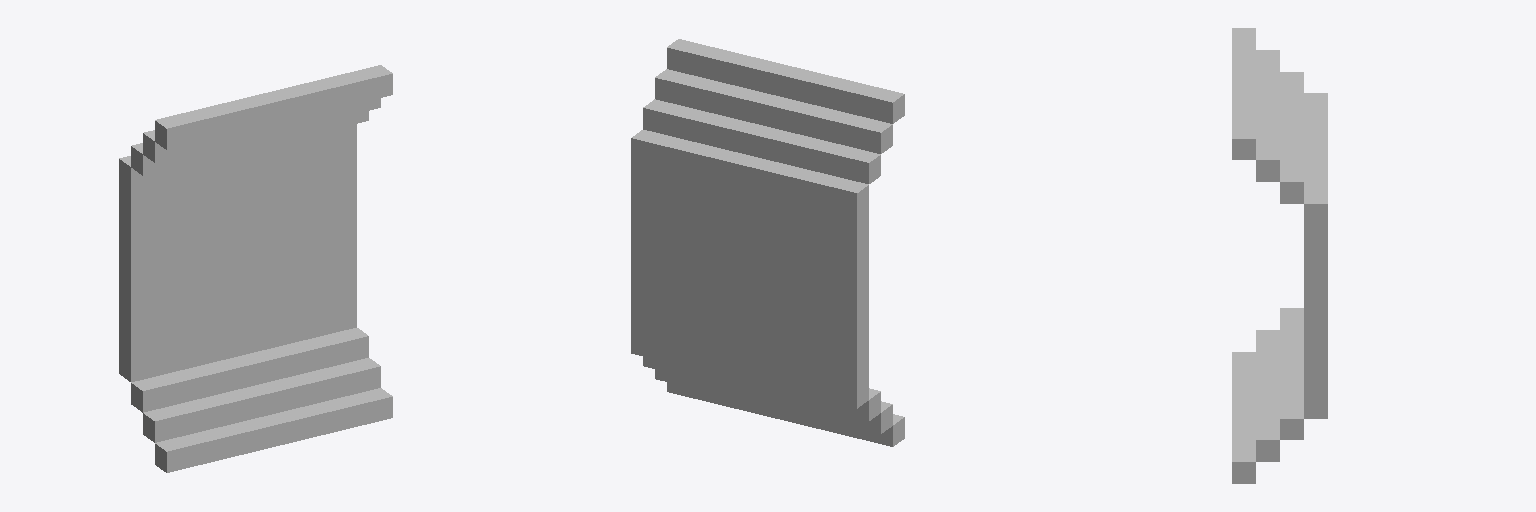
The model's file is bill.obj.
3 renders of one model, left to right at view 1: azimuth 30°, elevation 25°; view 2: azimuth 150°, elevation 25°; view 3: azimuth 270°, elevation 25°, orthographic.
Size of the model in its own units: 11 by 16 by 4.